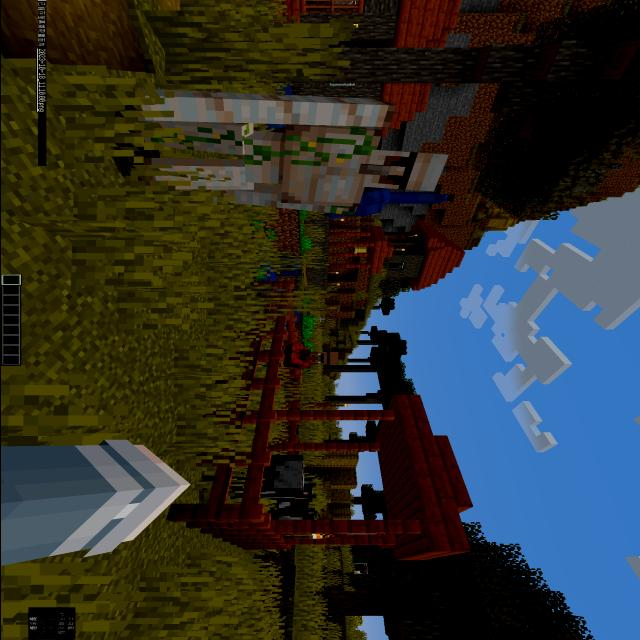cow: (216, 447, 320, 501), (244, 498, 328, 536)
iron golem: (107, 83, 454, 214)
